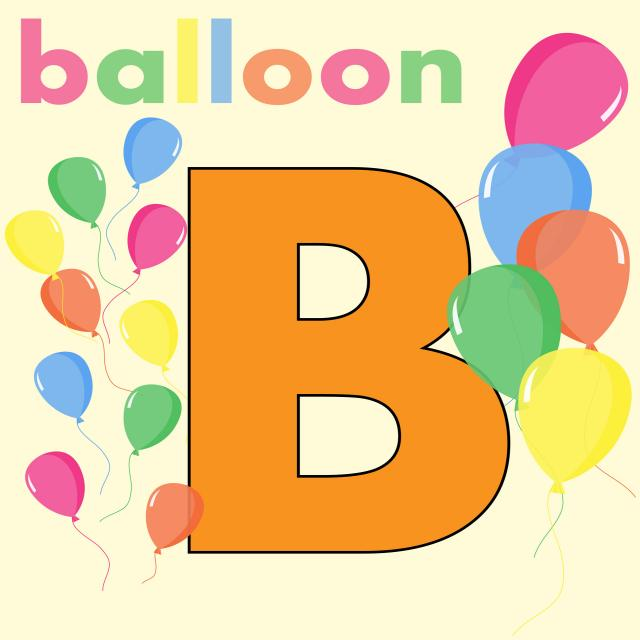B: (175, 162, 550, 580)
